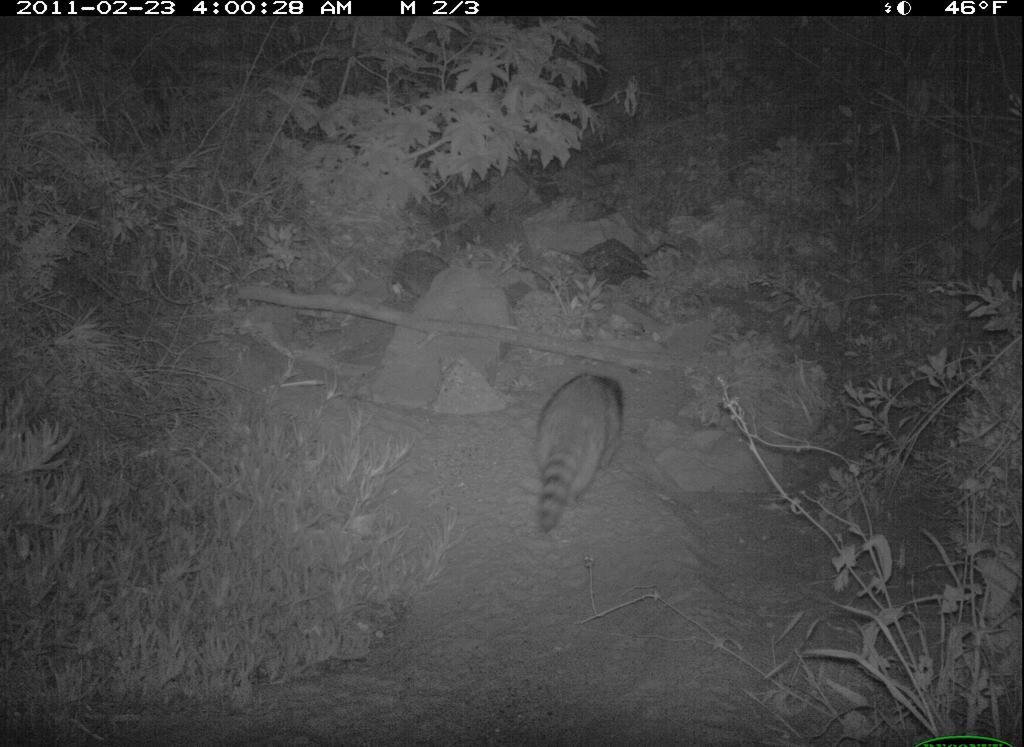raccoon: (516, 374, 639, 542)
